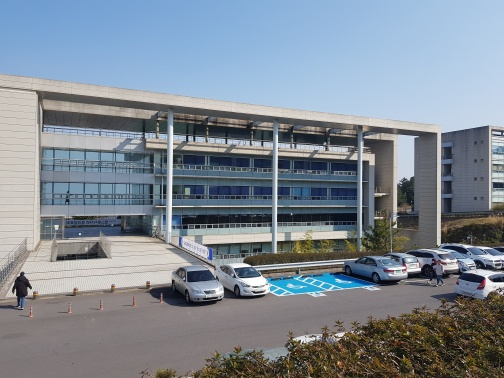Engineering College Building 4: (3, 74, 401, 248), (42, 88, 393, 245), (1, 129, 432, 255)
